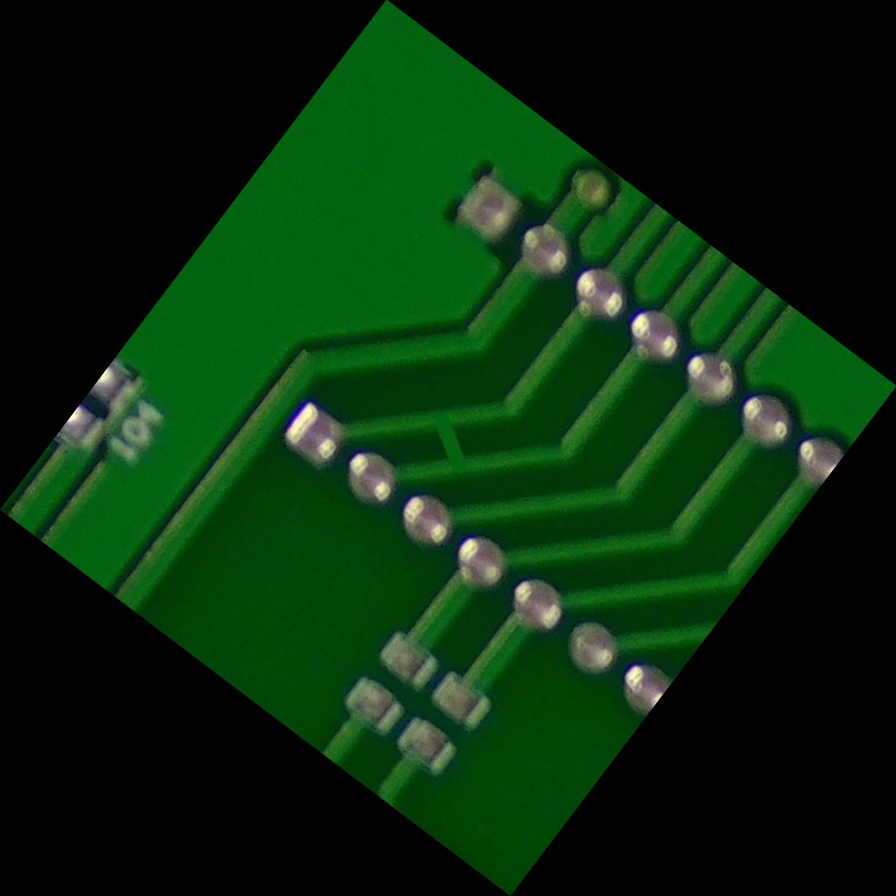short: (391, 392, 504, 504)
